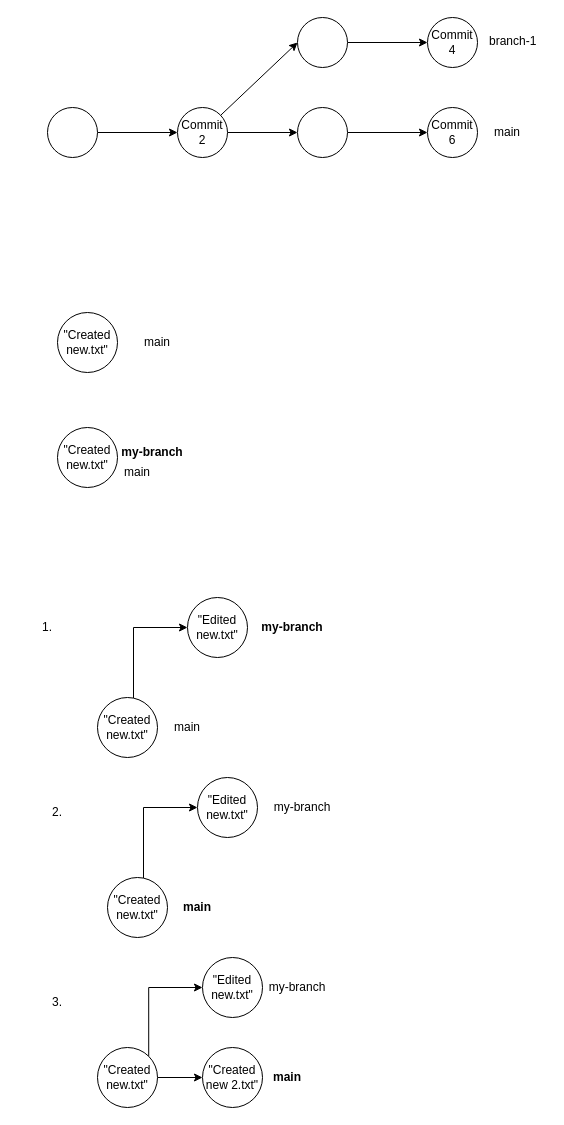
The diagram is 564 pixels wide and 1125 high, and some of its shapes have lost their labels. The shapes that lost their labels are listed below. From the top down, each one's centre as x and y in pixels, then its label:
point 322,42: Commit 3
point 72,132: Commit 1
point 322,132: Commit 5
